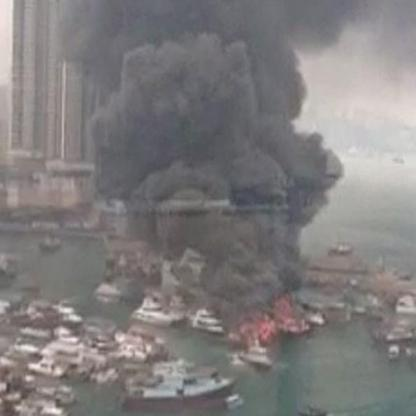smoke: (97, 100, 341, 226), (59, 0, 360, 102), (205, 230, 304, 313)
